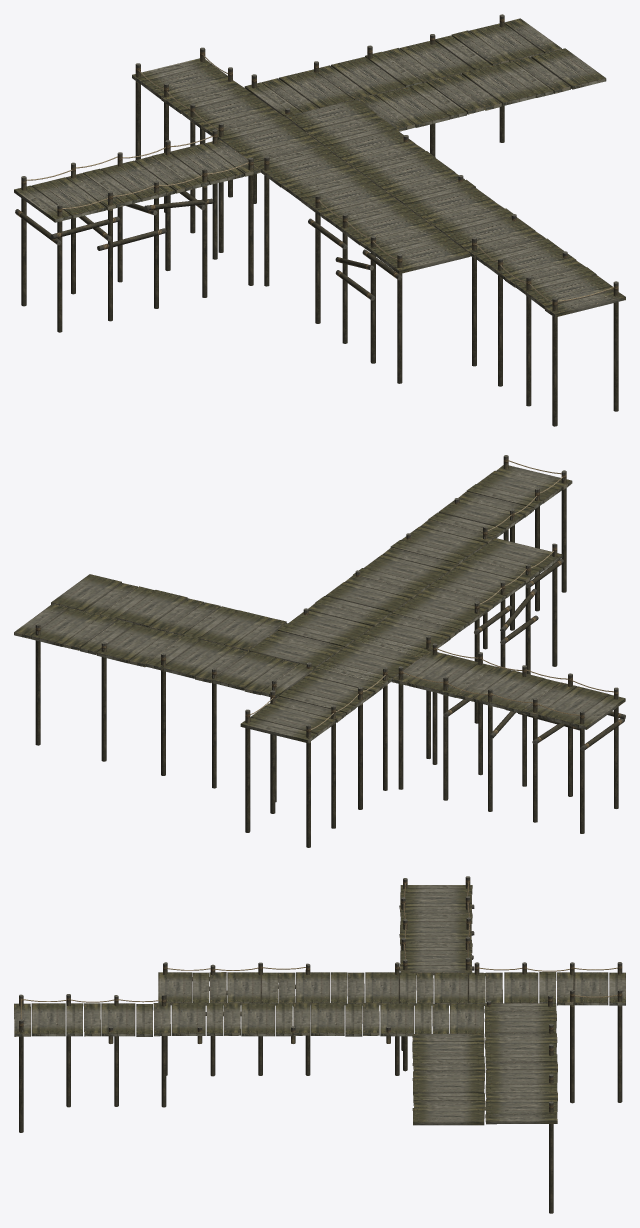
File: fortms_pier.fbx
3 renders of one model, top to bottom at view 1: azimuth 30°, elevation 25°; view 2: azimuth 150°, elevation 25°; view 3: azimuth 270°, elevation 25°, orthographic. The views are drawn at different scales.
Visible parts, largest first — view 1: fortms_pier; view 2: fortms_pier; view 3: fortms_pier.
Part boxes in pixels (left/top/right/bottom): fortms_pier: left=14, top=14, right=625, bottom=426; fortms_pier: left=14, top=455, right=625, bottom=847; fortms_pier: left=14, top=876, right=625, bottom=1213.
Size of the model in its own units: 57.85 by 12.78 by 62.81.
